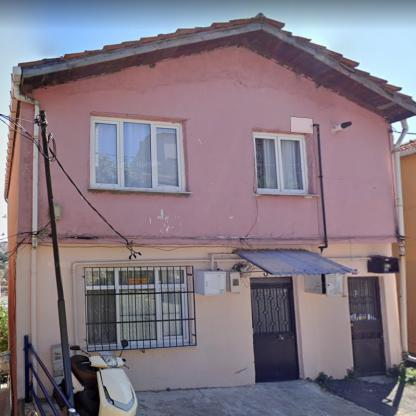door: (252, 287, 298, 382), (349, 280, 383, 374)
window: (86, 270, 184, 346), (93, 123, 178, 190), (255, 138, 305, 190)
